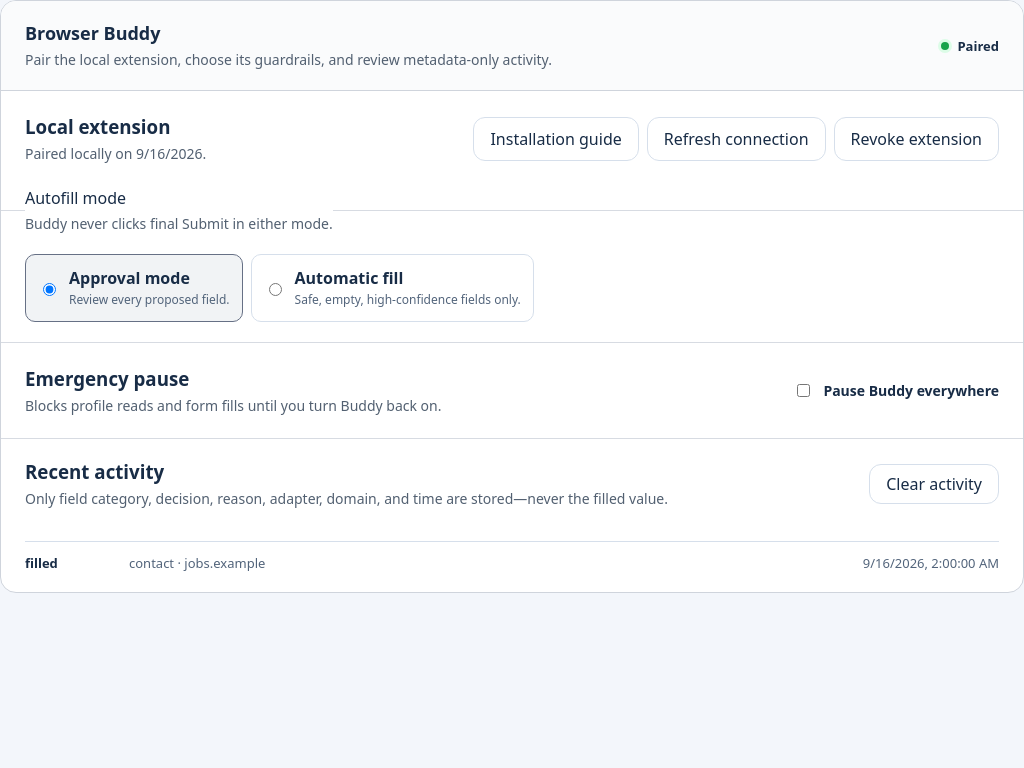
Test: BuddySettings › can pause, clear metadata-only activity, and revoke pairing
Step 1. Click the checkbox labelled "Pause Buddy everywhere" → (804, 391), box [797,384,810,397]
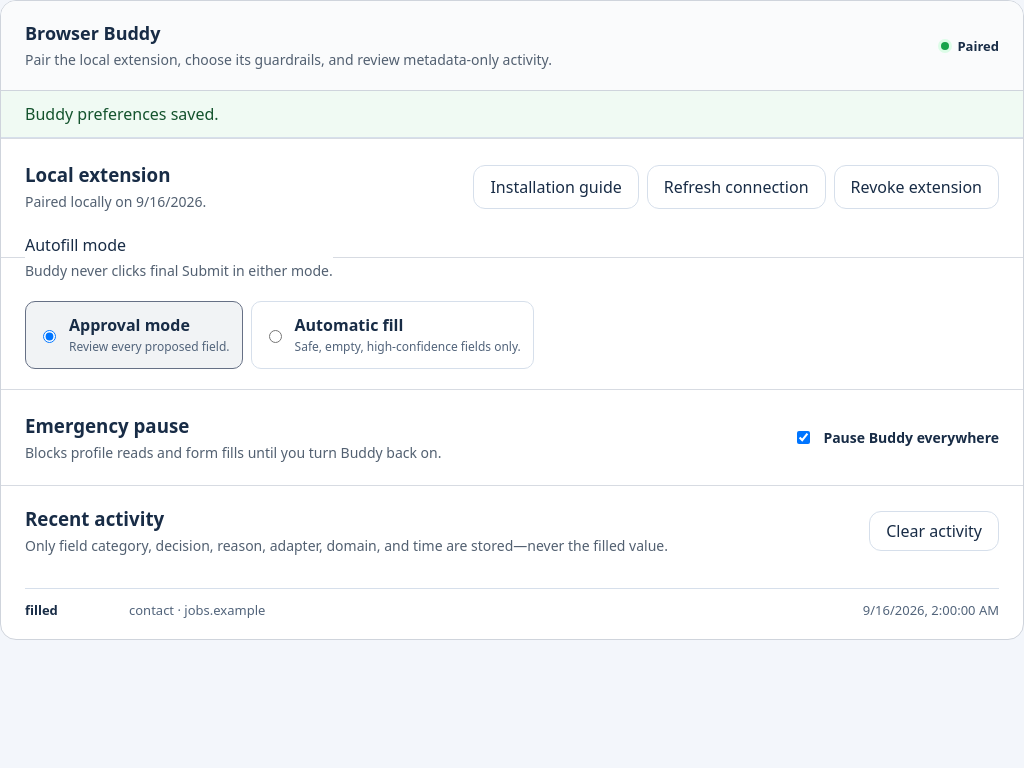
Step 2. Click the button "Clear activity" → (934, 531), box [869,511,999,551]
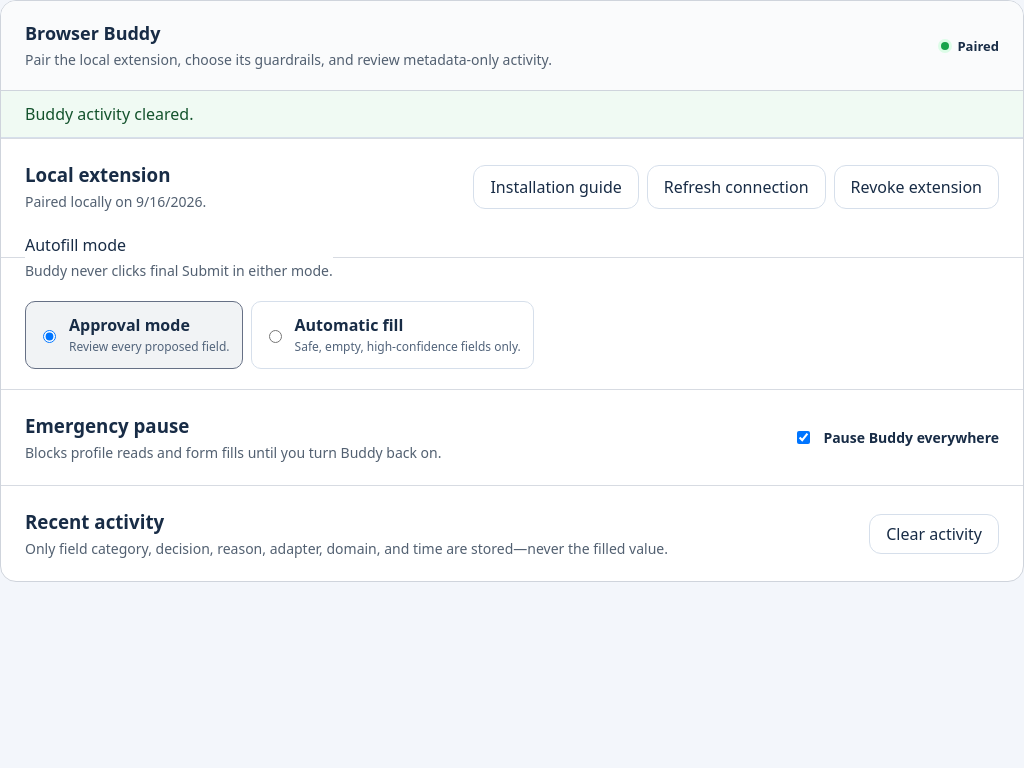
Step 3. Click the button "Revoke extension" → (916, 186), box [834,164,999,208]
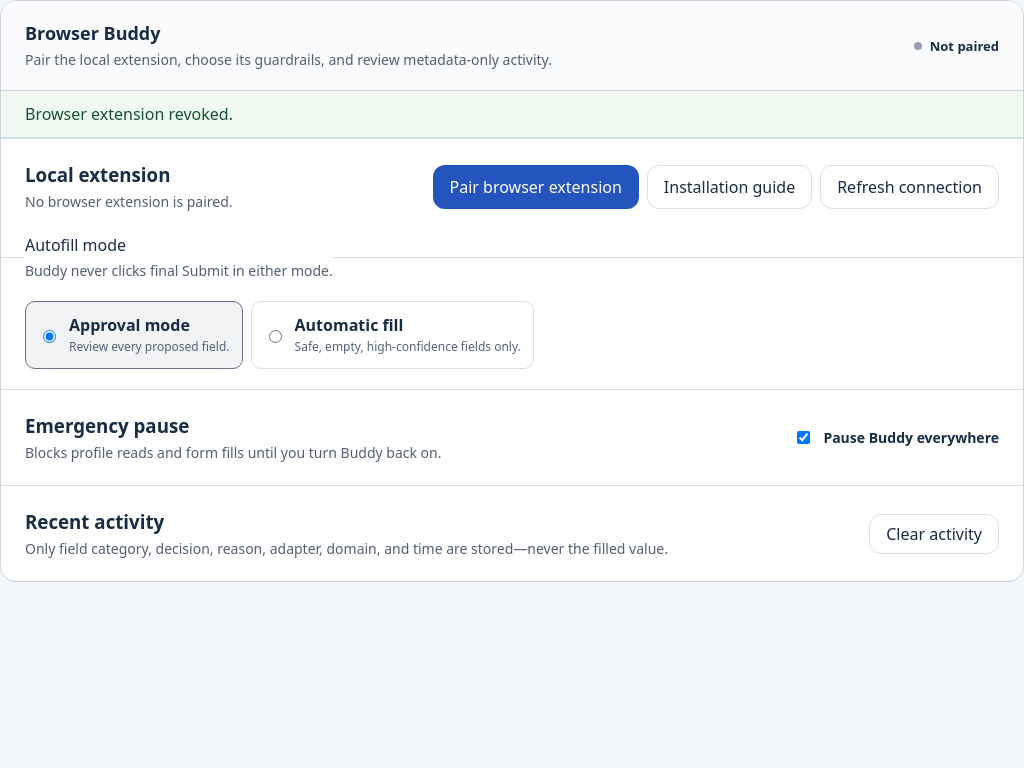
Result: the text "No browser extension is paired." is shown at [25,190,233,212]
